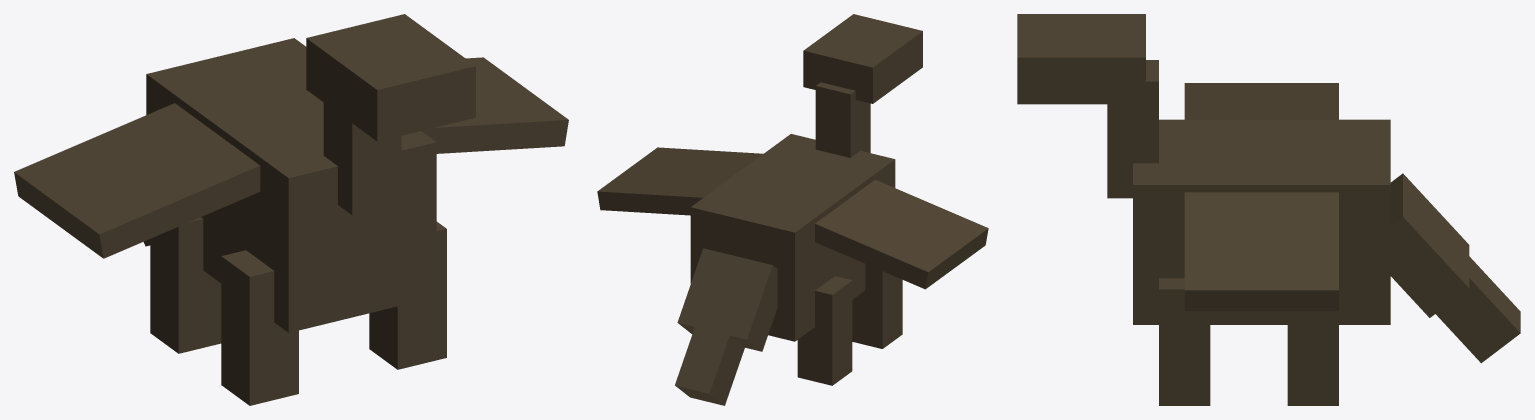
The model's file is DragonUndead.fbx.
3 views of the same model, side by side, from view 1: azimuth 30°, elevation 25°; view 2: azimuth 150°, elevation 25°; view 3: azimuth 270°, elevation 25° (orthographic). The views are drawn at different scales.
Parts seen in each view (by area): view 1: Cube.001; view 2: Cube.001; view 3: Cube.001.
Part boxes in pixels (x1,y1,x2,y2): Cube.001: [14, 14, 568, 405]; Cube.001: [597, 14, 988, 405]; Cube.001: [1017, 14, 1520, 405].
Bounding box in the file's own units: 191 × 140 × 196.
